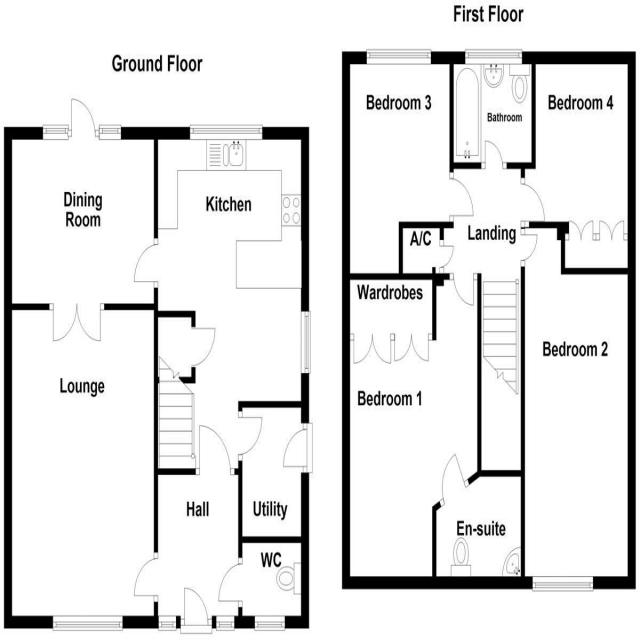DOOR: (198, 421, 233, 478), (440, 449, 469, 507), (518, 180, 547, 227), (280, 425, 310, 470), (182, 583, 210, 630), (131, 555, 160, 599), (190, 325, 218, 370), (69, 96, 98, 139), (216, 560, 244, 604), (447, 176, 475, 220), (132, 241, 160, 284), (237, 415, 265, 458), (451, 270, 476, 309), (483, 137, 506, 171), (519, 232, 540, 265)
DOUBLE DOOR: (46, 302, 105, 346)
ROOM: (131, 123, 310, 477), (2, 302, 159, 631), (339, 272, 482, 590), (520, 217, 638, 591), (2, 95, 160, 343), (340, 50, 476, 281), (520, 50, 637, 275), (131, 421, 242, 631), (236, 399, 310, 544)
WINDOW: (51, 612, 124, 633), (188, 122, 264, 142), (365, 46, 433, 68), (530, 574, 595, 594), (463, 47, 524, 68), (299, 309, 312, 378), (253, 614, 287, 634), (41, 122, 70, 142), (98, 121, 123, 144), (156, 613, 177, 635), (214, 613, 236, 633)
